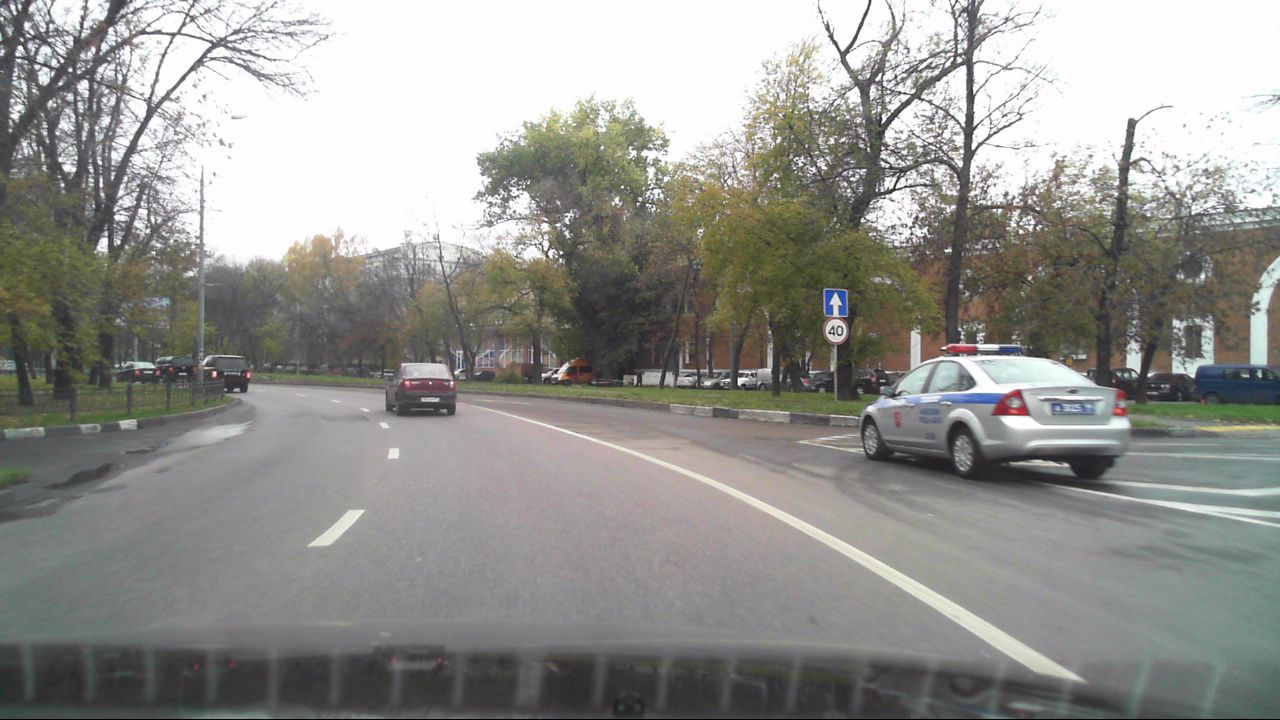speed_warning_40: (823, 316, 848, 345)
